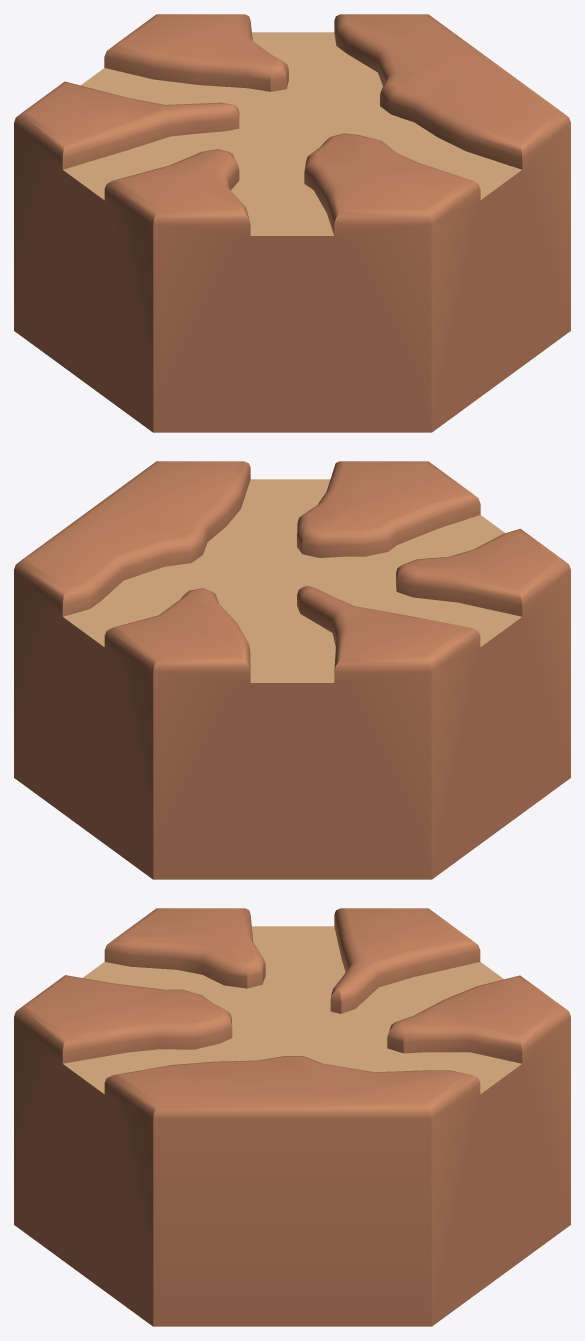
The model's file is hex_rock_roadl.glb.
3 views of the same model, one above another, from view 1: azimuth 30°, elevation 25°; view 2: azimuth 150°, elevation 25°; view 3: azimuth 270°, elevation 25° (orthographic).
Parts seen in each view (by area): view 1: hex_rock_roadL; view 2: hex_rock_roadL; view 3: hex_rock_roadL.
Part boxes in pixels (<box>): hex_rock_roadL: <box>14,14,570,432</box>; hex_rock_roadL: <box>14,461,570,879</box>; hex_rock_roadL: <box>14,908,570,1326</box>.
Size of the model in its own units: 8 by 4 by 9.24.
